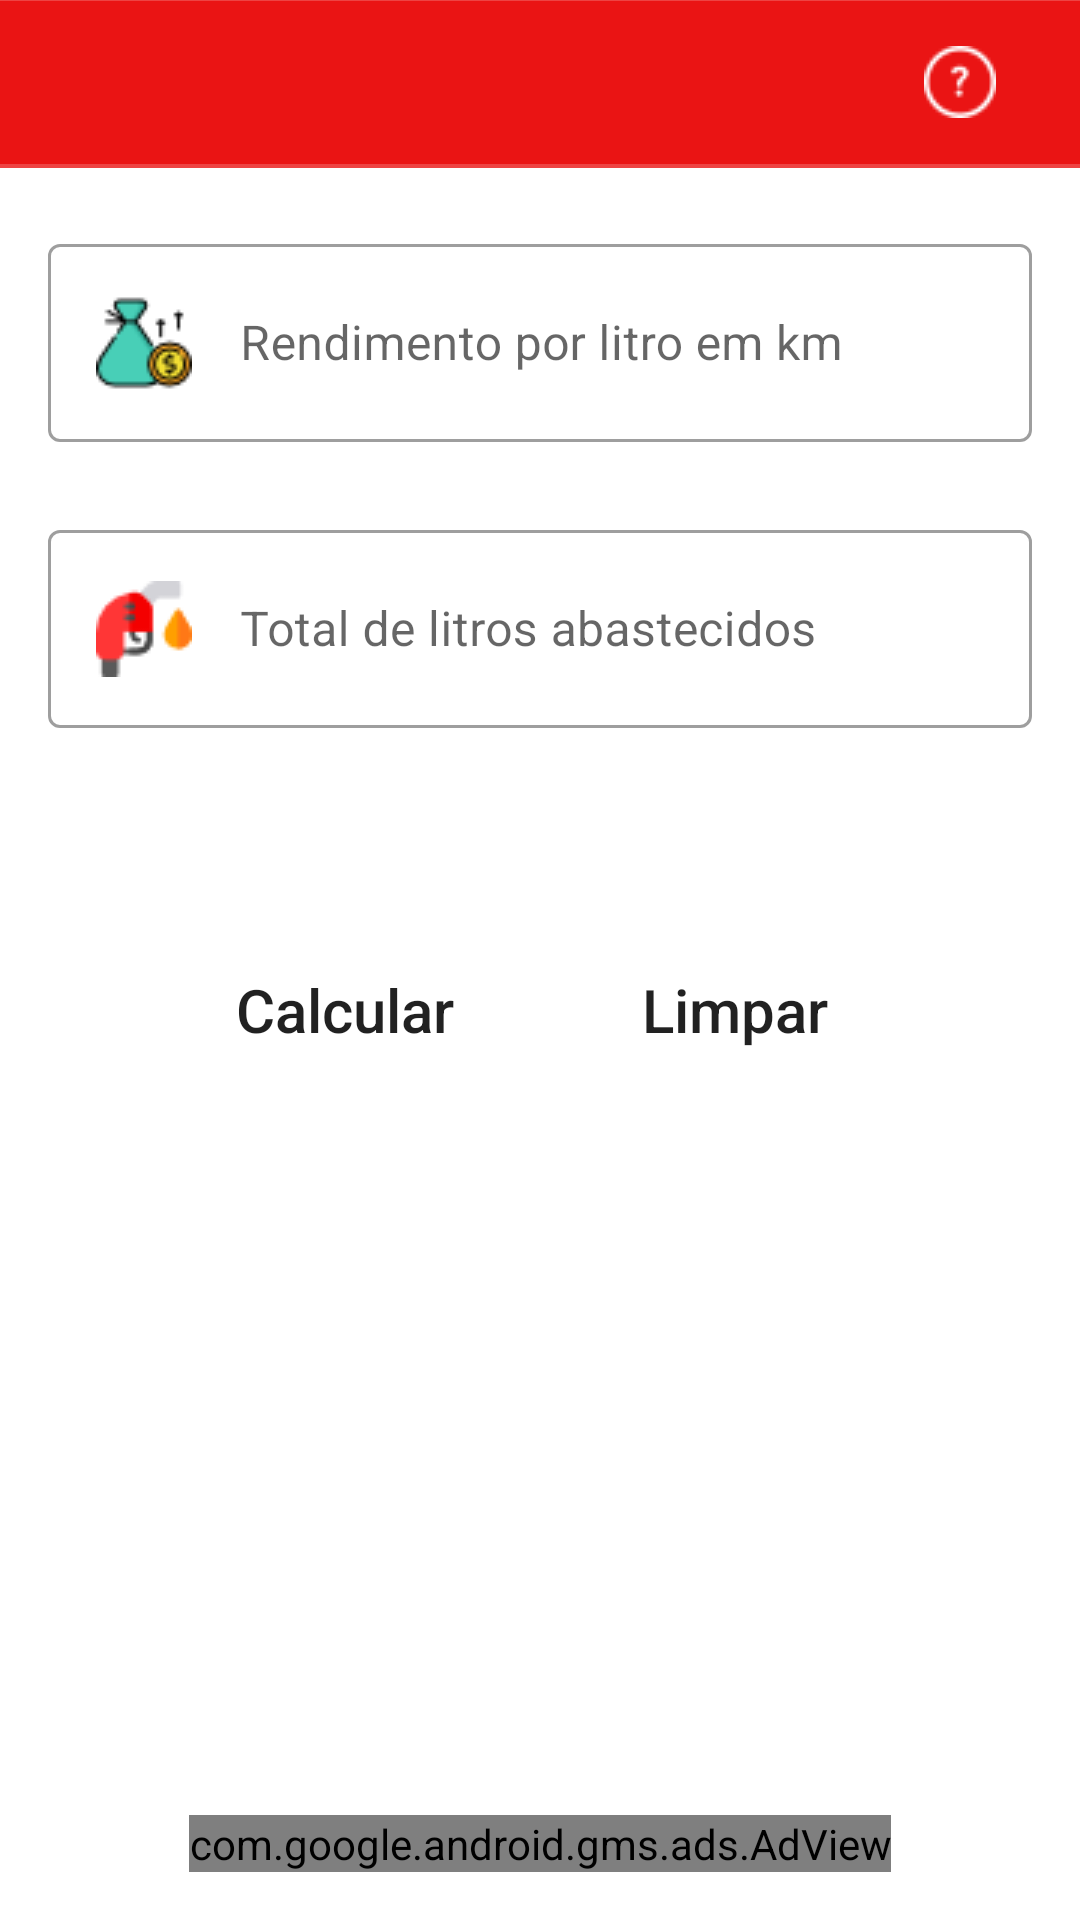

Named icons in this screenshot (1080×1920) and their centers, (x,y):
question: (960,82)
